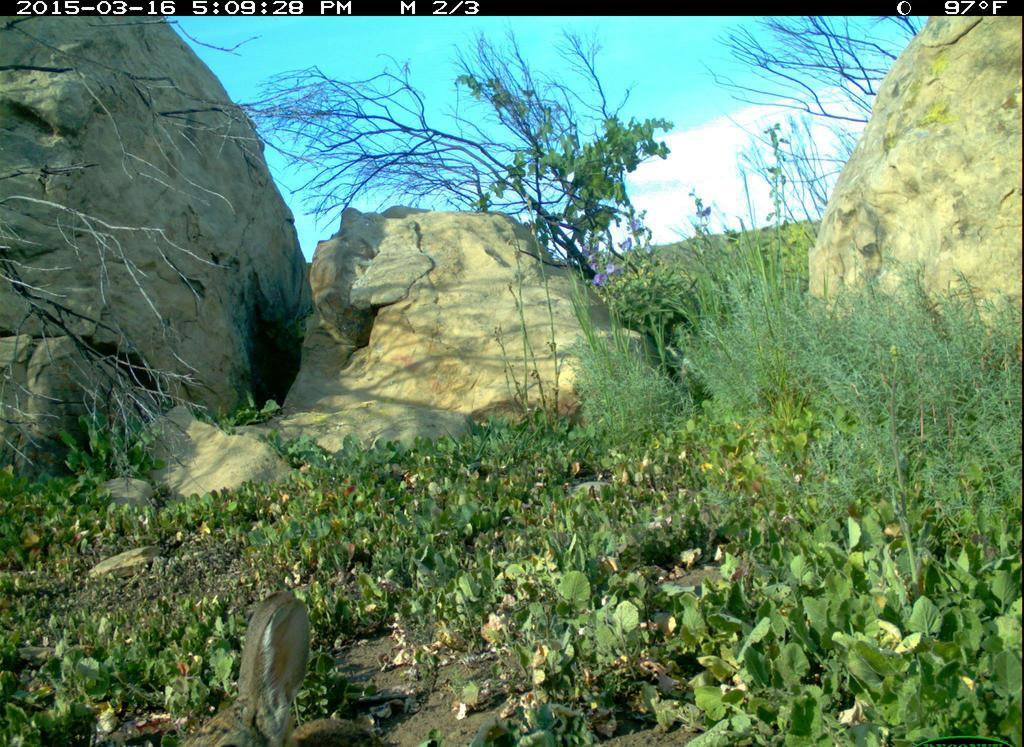rabbit: (231, 584, 383, 743)
